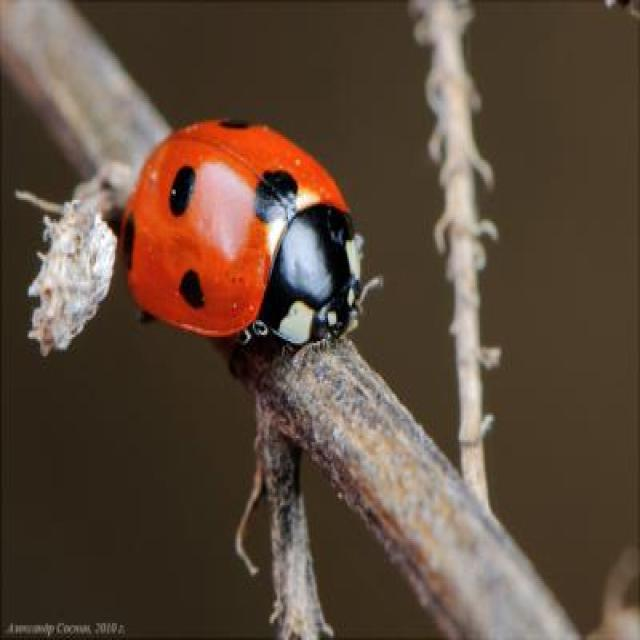antennae: (279, 330, 339, 383), (358, 272, 388, 313)
body: (121, 118, 365, 343)
insect: (118, 117, 382, 369)
mouthpart: (317, 288, 359, 352)
wings: (126, 121, 352, 336)
